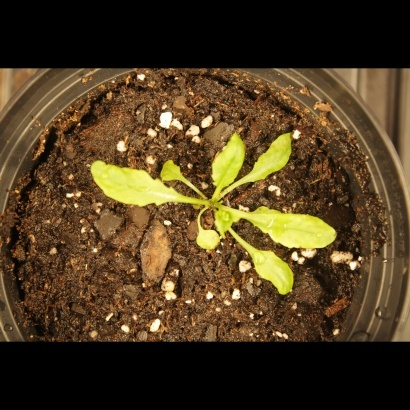leaf: (84, 159, 176, 213), (249, 201, 344, 250), (240, 244, 298, 299), (246, 124, 297, 186), (210, 128, 246, 191), (188, 221, 223, 255), (209, 202, 244, 234), (159, 157, 190, 185)
